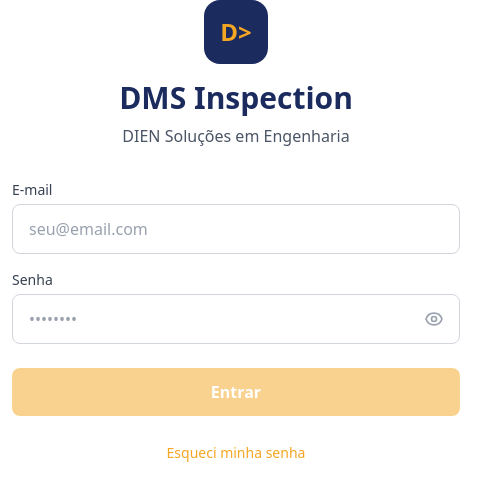
it: LoginPage › shows loading state "Entrando..." when submitting
The width and height of the screenshot is (477, 479).
In the field labelled "E-mail": (236, 229) [12, 204, 460, 254], type "teste@dms.eng.br"
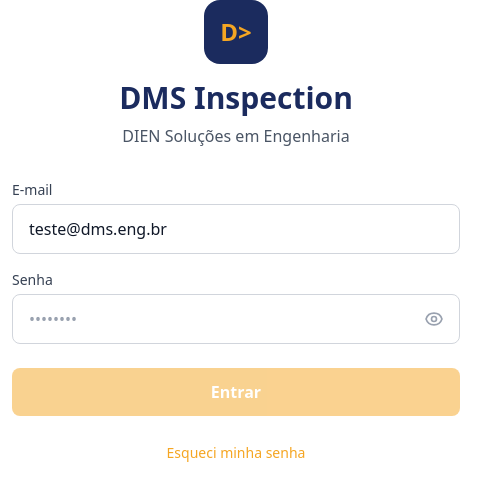
In the password field labelled "Senha": (236, 319) [12, 294, 460, 344], type "password123"
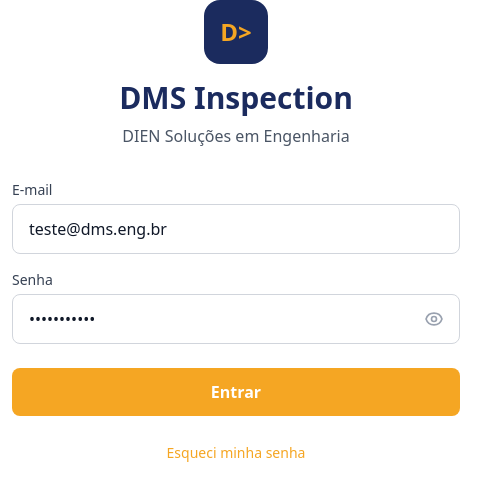
Click the button "Entrar": (236, 392) [12, 368, 460, 416]
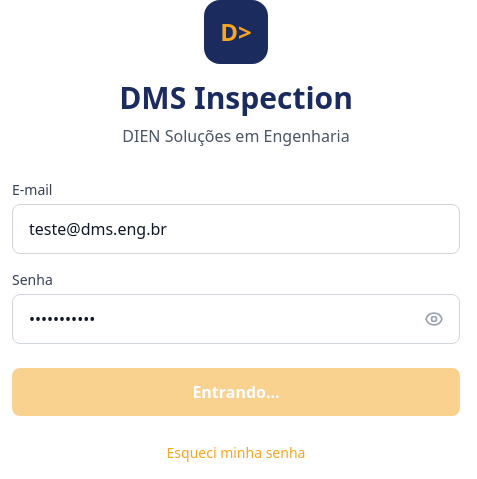
Expected: the button "Entrando..." is shown, [12, 368, 460, 416]
